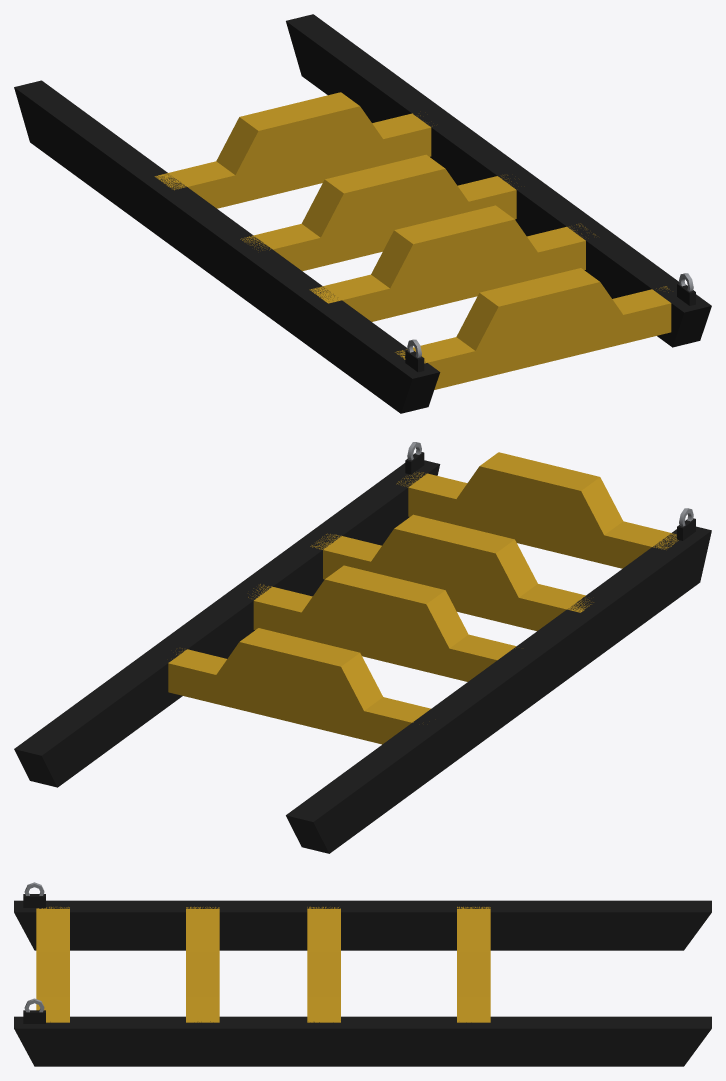
The model's file is md40_cradle.obj.
3 views of the same model, one above another, from view 1: azimuth 30°, elevation 25°; view 2: azimuth 150°, elevation 25°; view 3: azimuth 270°, elevation 25° (orthographic). The views are drawn at different scales.
Visible parts, largest first — view 1: md40_cradle; view 2: md40_cradle; view 3: md40_cradle.
Boxes of the visible parts, x1,y1,x2,y2 form: md40_cradle: [14, 14, 711, 413]; md40_cradle: [14, 442, 711, 853]; md40_cradle: [14, 882, 711, 1066].
Bounding box in the file's own units: 3.24 × 0.85 × 7.47.
